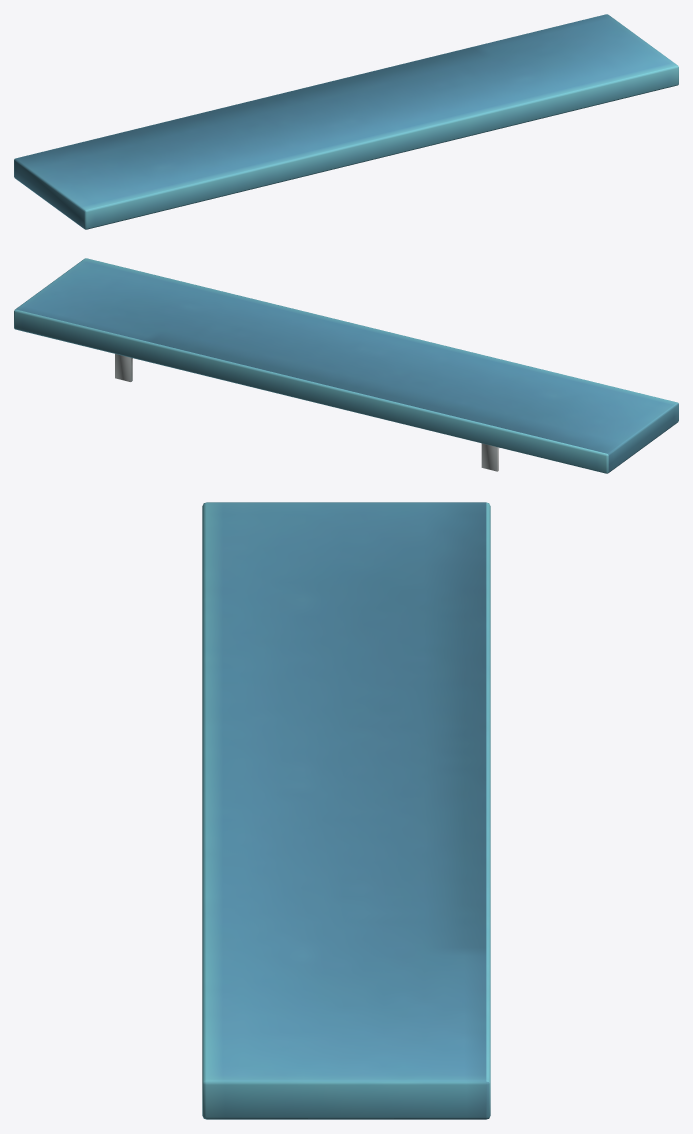
The model's file is EE_WallMountShelves_02.gltf.
3 views of the same model, one above another, from view 1: azimuth 30°, elevation 25°; view 2: azimuth 150°, elevation 25°; view 3: azimuth 270°, elevation 25° (orthographic). The views are drawn at different scales.
Parts seen in each view (by area): view 1: EE_WallMountShelves_02.001; view 2: EE_WallMountShelves_02.001; view 3: EE_WallMountShelves_02.001.
Boxes of the visible parts, x1,y1,x2,y2 form: EE_WallMountShelves_02.001: (14,14,678,229); EE_WallMountShelves_02.001: (14,258,678,473); EE_WallMountShelves_02.001: (202,502,490,1119).
Size of what is drawn, in the model's own units: 1.63 by 0.1198 by 0.3431.
2 materials, 2 textured.
